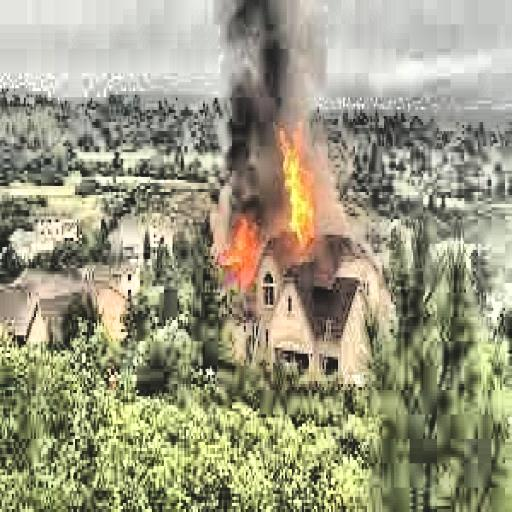fire: (271, 119, 331, 256), (205, 204, 264, 290)
